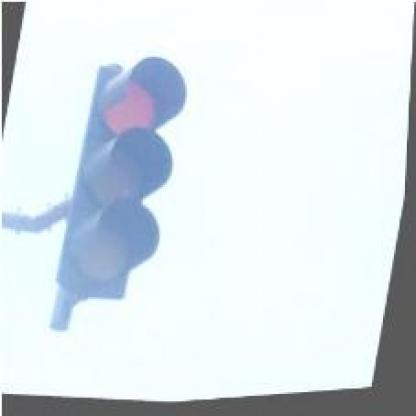red: (50, 47, 192, 309)
